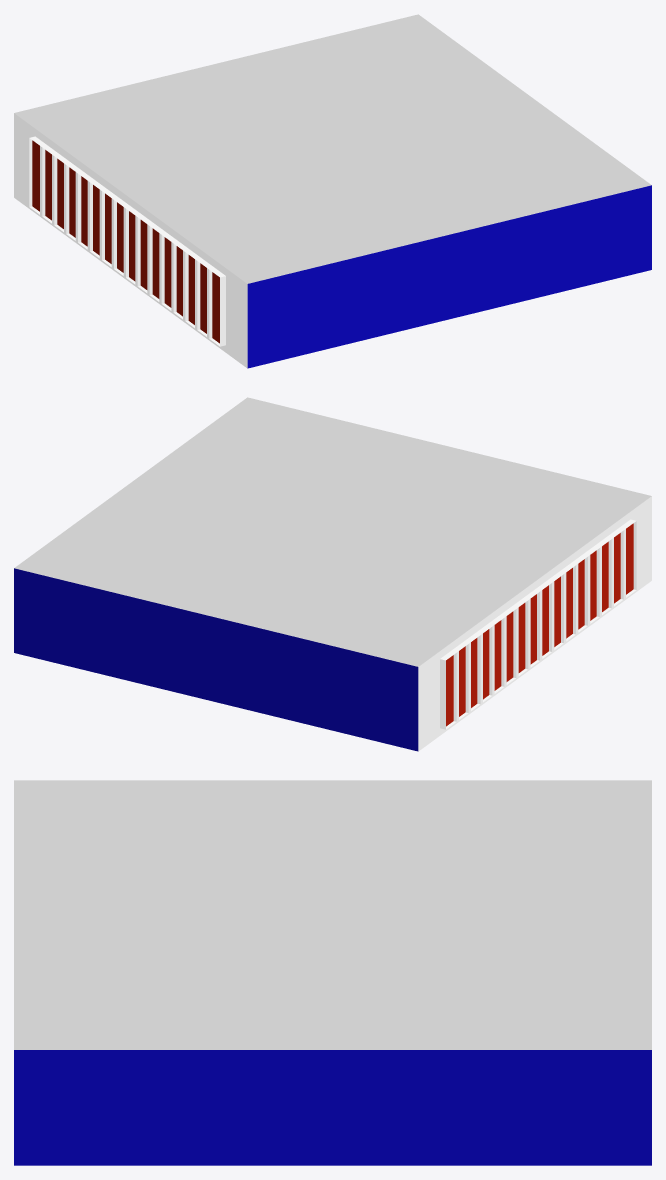
File: Room.glb
3 views of the same model, one above another, from view 1: azimuth 30°, elevation 25°; view 2: azimuth 150°, elevation 25°; view 3: azimuth 270°, elevation 25° (orthographic). The views are drawn at different scales.
Parts seen in each view (by area): view 1: floor.001, wall.002, wall, glass_wall; view 2: floor.001, wall.001, wall, glass_wall; view 3: floor.001, wall.003.
Part boxes in pixels (left/top/right/bottom): floor.001: left=14, top=14, right=651, bottom=283; wall.002: left=247, top=185, right=651, bottom=368; wall: left=14, top=113, right=247, bottom=368; glass_wall: left=32, top=140, right=219, bottom=343; floor.001: left=14, top=397, right=651, bottom=666; wall.001: left=14, top=568, right=418, bottom=751; wall: left=418, top=496, right=651, bottom=751; glass_wall: left=446, top=523, right=633, bottom=726; floor.001: left=14, top=780, right=651, bottom=1049; wall.003: left=14, top=1050, right=651, bottom=1165.
Size of the model in its own units: 203 by 40 by 200.
